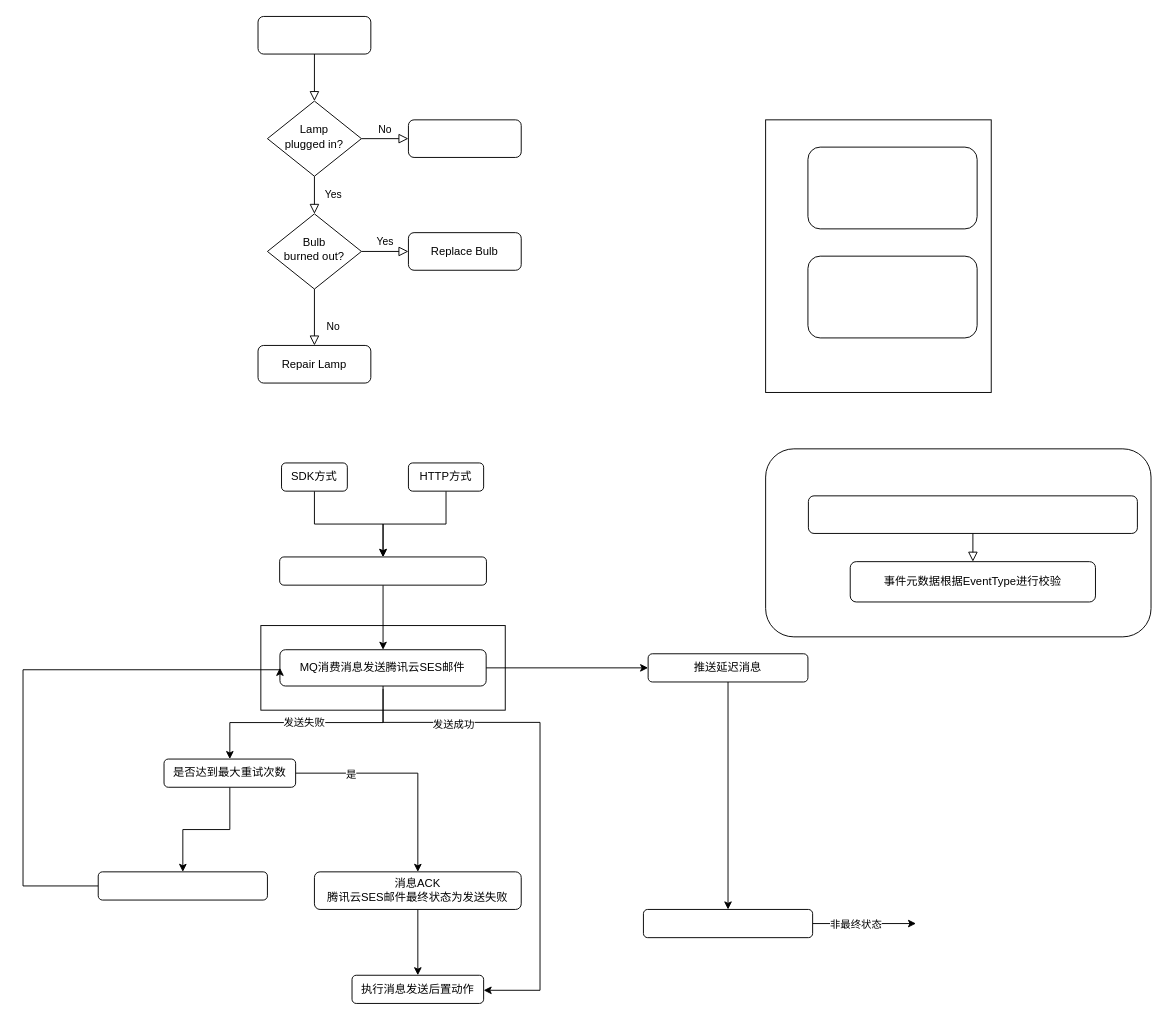
The diagram is 1167 pixels wide and 1020 high, and some of its shapes have lost their labels. The shapes that lost their labels are listed below. From the top down, each one's box as (x1, y1, x2, y2) in pixels, then its label:
(257, 16, 371, 54): Lamp doesn't work
(407, 119, 521, 157): Plug in lamp
(807, 495, 1137, 533): 反序列化为EventPublishRequest对象，校验有无缺失段 构建Event对象
(279, 556, 486, 585): 推送MQ消息准备发送腾讯云SES邮件
(97, 871, 267, 900): 抛出异常，中断消息ACK操作
(642, 909, 813, 938): 查询腾讯云SES邮件发送状态
